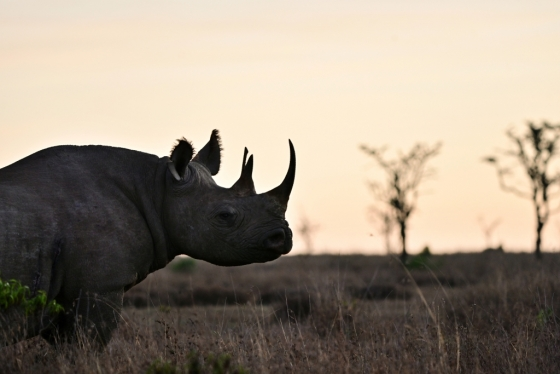Rhinoceros: (2, 101, 321, 351)
